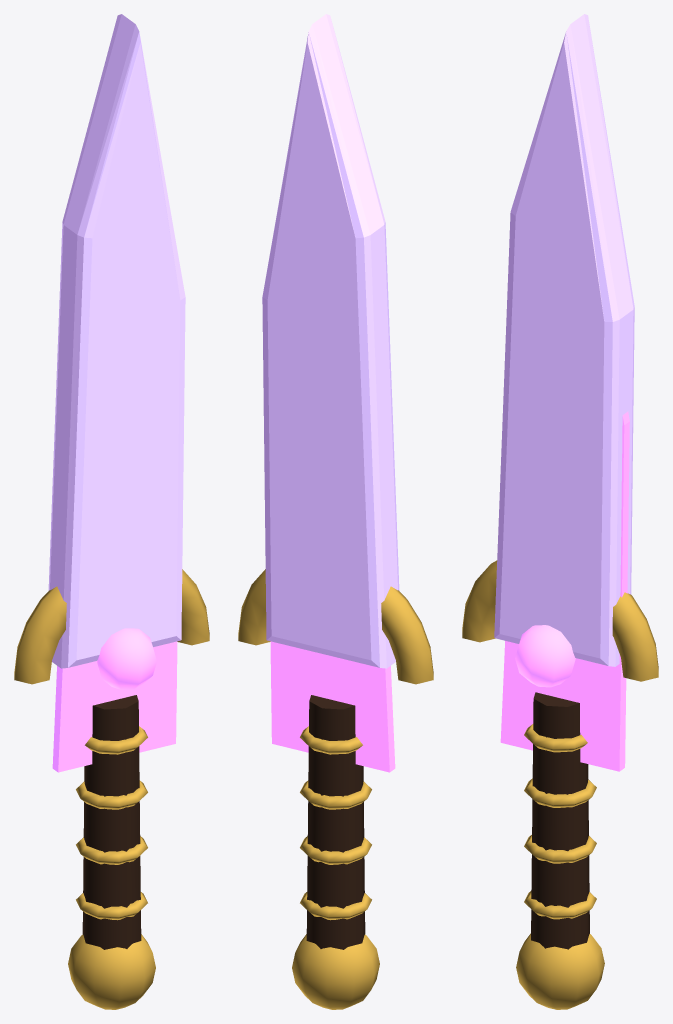
The model's file is dagger_f0_410755a1.glb.
The picture shows the model from 3 angles, left to right: view 1: azimuth 30°, elevation 25°; view 2: azimuth 150°, elevation 25°; view 3: azimuth 330°, elevation 25°; orthographic projection.
Parts seen in each view (by area): view 1: m1_ow80_, m4_ow80_, m3_ow80_, m0_, m2_gm160_; view 2: m1_ow80_, m4_ow80_, m3_ow80_, m0_; view 3: m1_ow80_, m4_ow80_, m3_ow80_, m0_, m2_gm160_.
Boxes of the visible parts, x1=… form: m1_ow80_: x1=48, y1=14, x2=185, y2=668; m4_ow80_: x1=14, y1=569, x2=209, y2=1009; m3_ow80_: x1=82, y1=695, x2=141, y2=949; m0_: x1=52, y1=641, x2=177, y2=772; m2_gm160_: x1=96, y1=628, x2=156, y2=689; m1_ow80_: x1=262, y1=14, x2=399, y2=668; m4_ow80_: x1=238, y1=569, x2=433, y2=1009; m3_ow80_: x1=306, y1=695, x2=365, y2=949; m0_: x1=270, y1=641, x2=395, y2=772; m1_ow80_: x1=494, y1=14, x2=634, y2=666; m4_ow80_: x1=462, y1=560, x2=658, y2=1009; m3_ow80_: x1=531, y1=692, x2=589, y2=949; m0_: x1=500, y1=411, x2=629, y2=771; m2_gm160_: x1=515, y1=625, x2=575, y2=687.
Size of the model in its own units: 0.244 by 1.17 by 0.1107.
